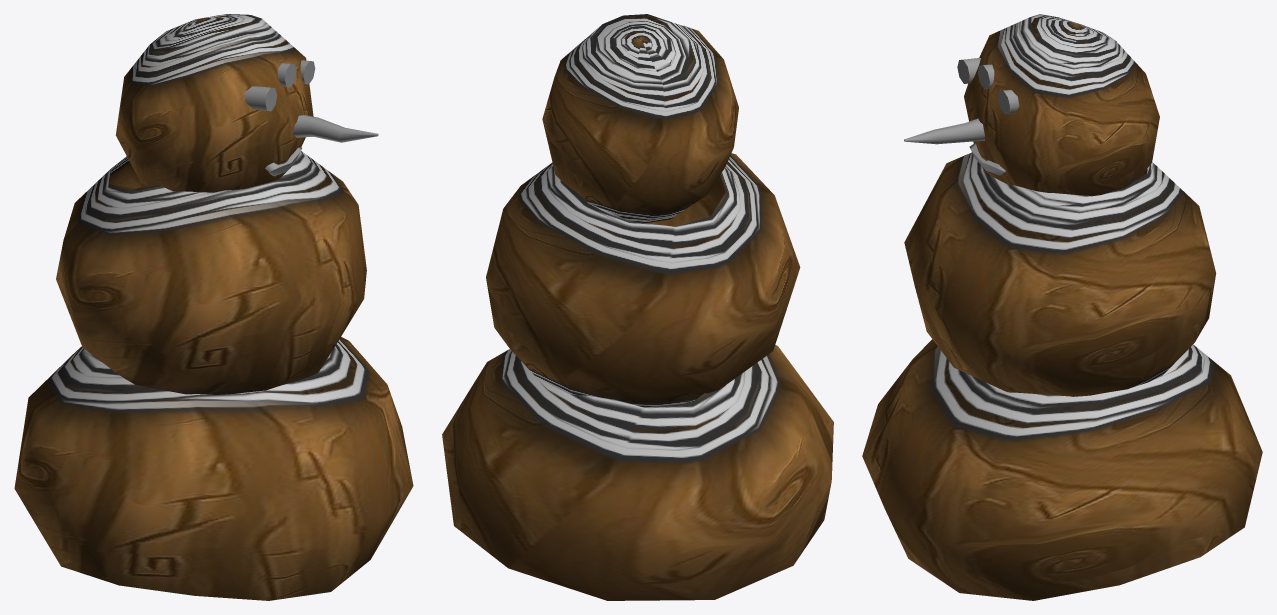
File: pupazzoNeve.FBX
3 views of the same model, side by side, from view 1: azimuth 30°, elevation 25°; view 2: azimuth 150°, elevation 25°; view 3: azimuth 270°, elevation 25° (orthographic). The views are drawn at different scales.
Visible parts, largest first — view 1: pupazzoNeve; view 2: pupazzoNeve; view 3: pupazzoNeve.
Boxes of the visible parts, x1,y1,x2,y2 form: pupazzoNeve: (14, 14, 413, 600); pupazzoNeve: (442, 14, 833, 600); pupazzoNeve: (862, 14, 1262, 600).
Bounding box in the file's own units: 14.11 × 20.57 × 14.34.
3 materials, 1 textured.
